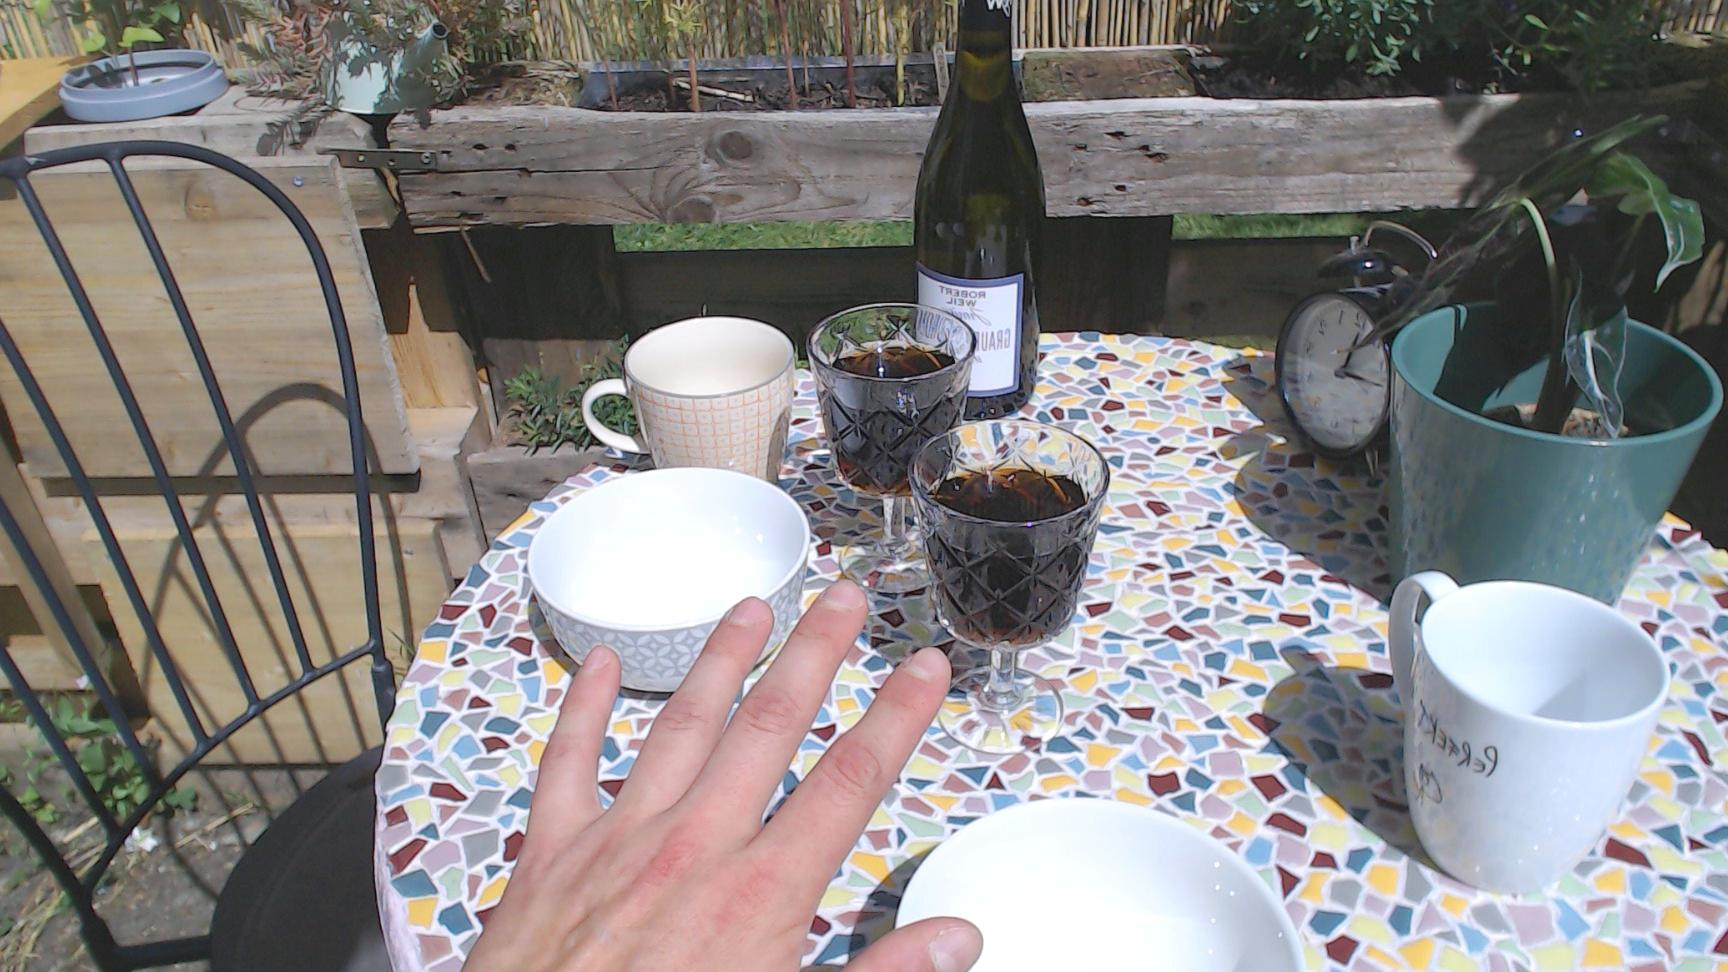bottle: (913, 0, 1046, 420)
bowl_close: (892, 798, 1308, 972)
bowl_far: (527, 466, 813, 695)
clock: (1276, 291, 1389, 452)
cup_close: (1389, 567, 1672, 894)
cup_far: (582, 315, 798, 483)
hand_close: (436, 589, 977, 972)
potted_plant: (1381, 123, 1724, 608)
wineglass_close: (909, 418, 1111, 757)
wineglass_far: (806, 300, 978, 590)
